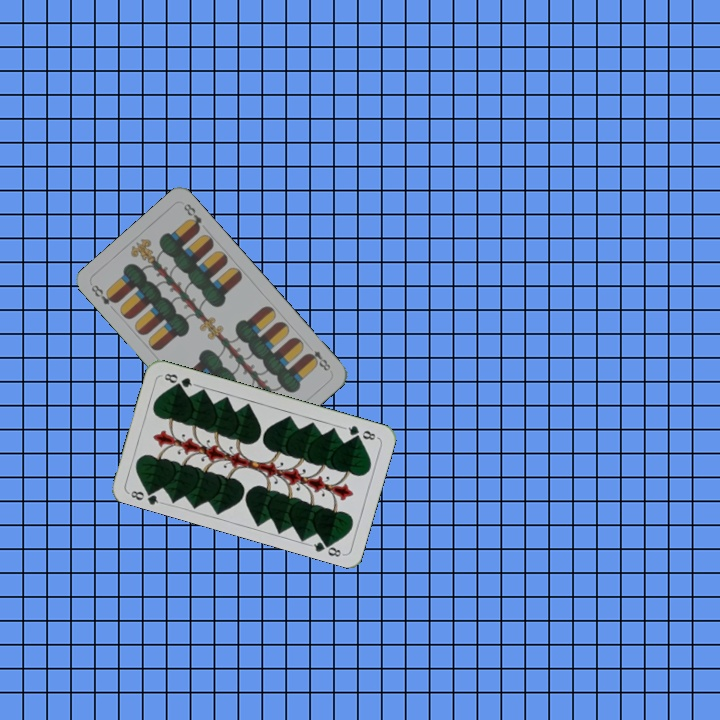E8: (87, 280, 120, 308), (303, 346, 333, 373)
G8: (125, 484, 165, 507), (340, 421, 378, 443)
